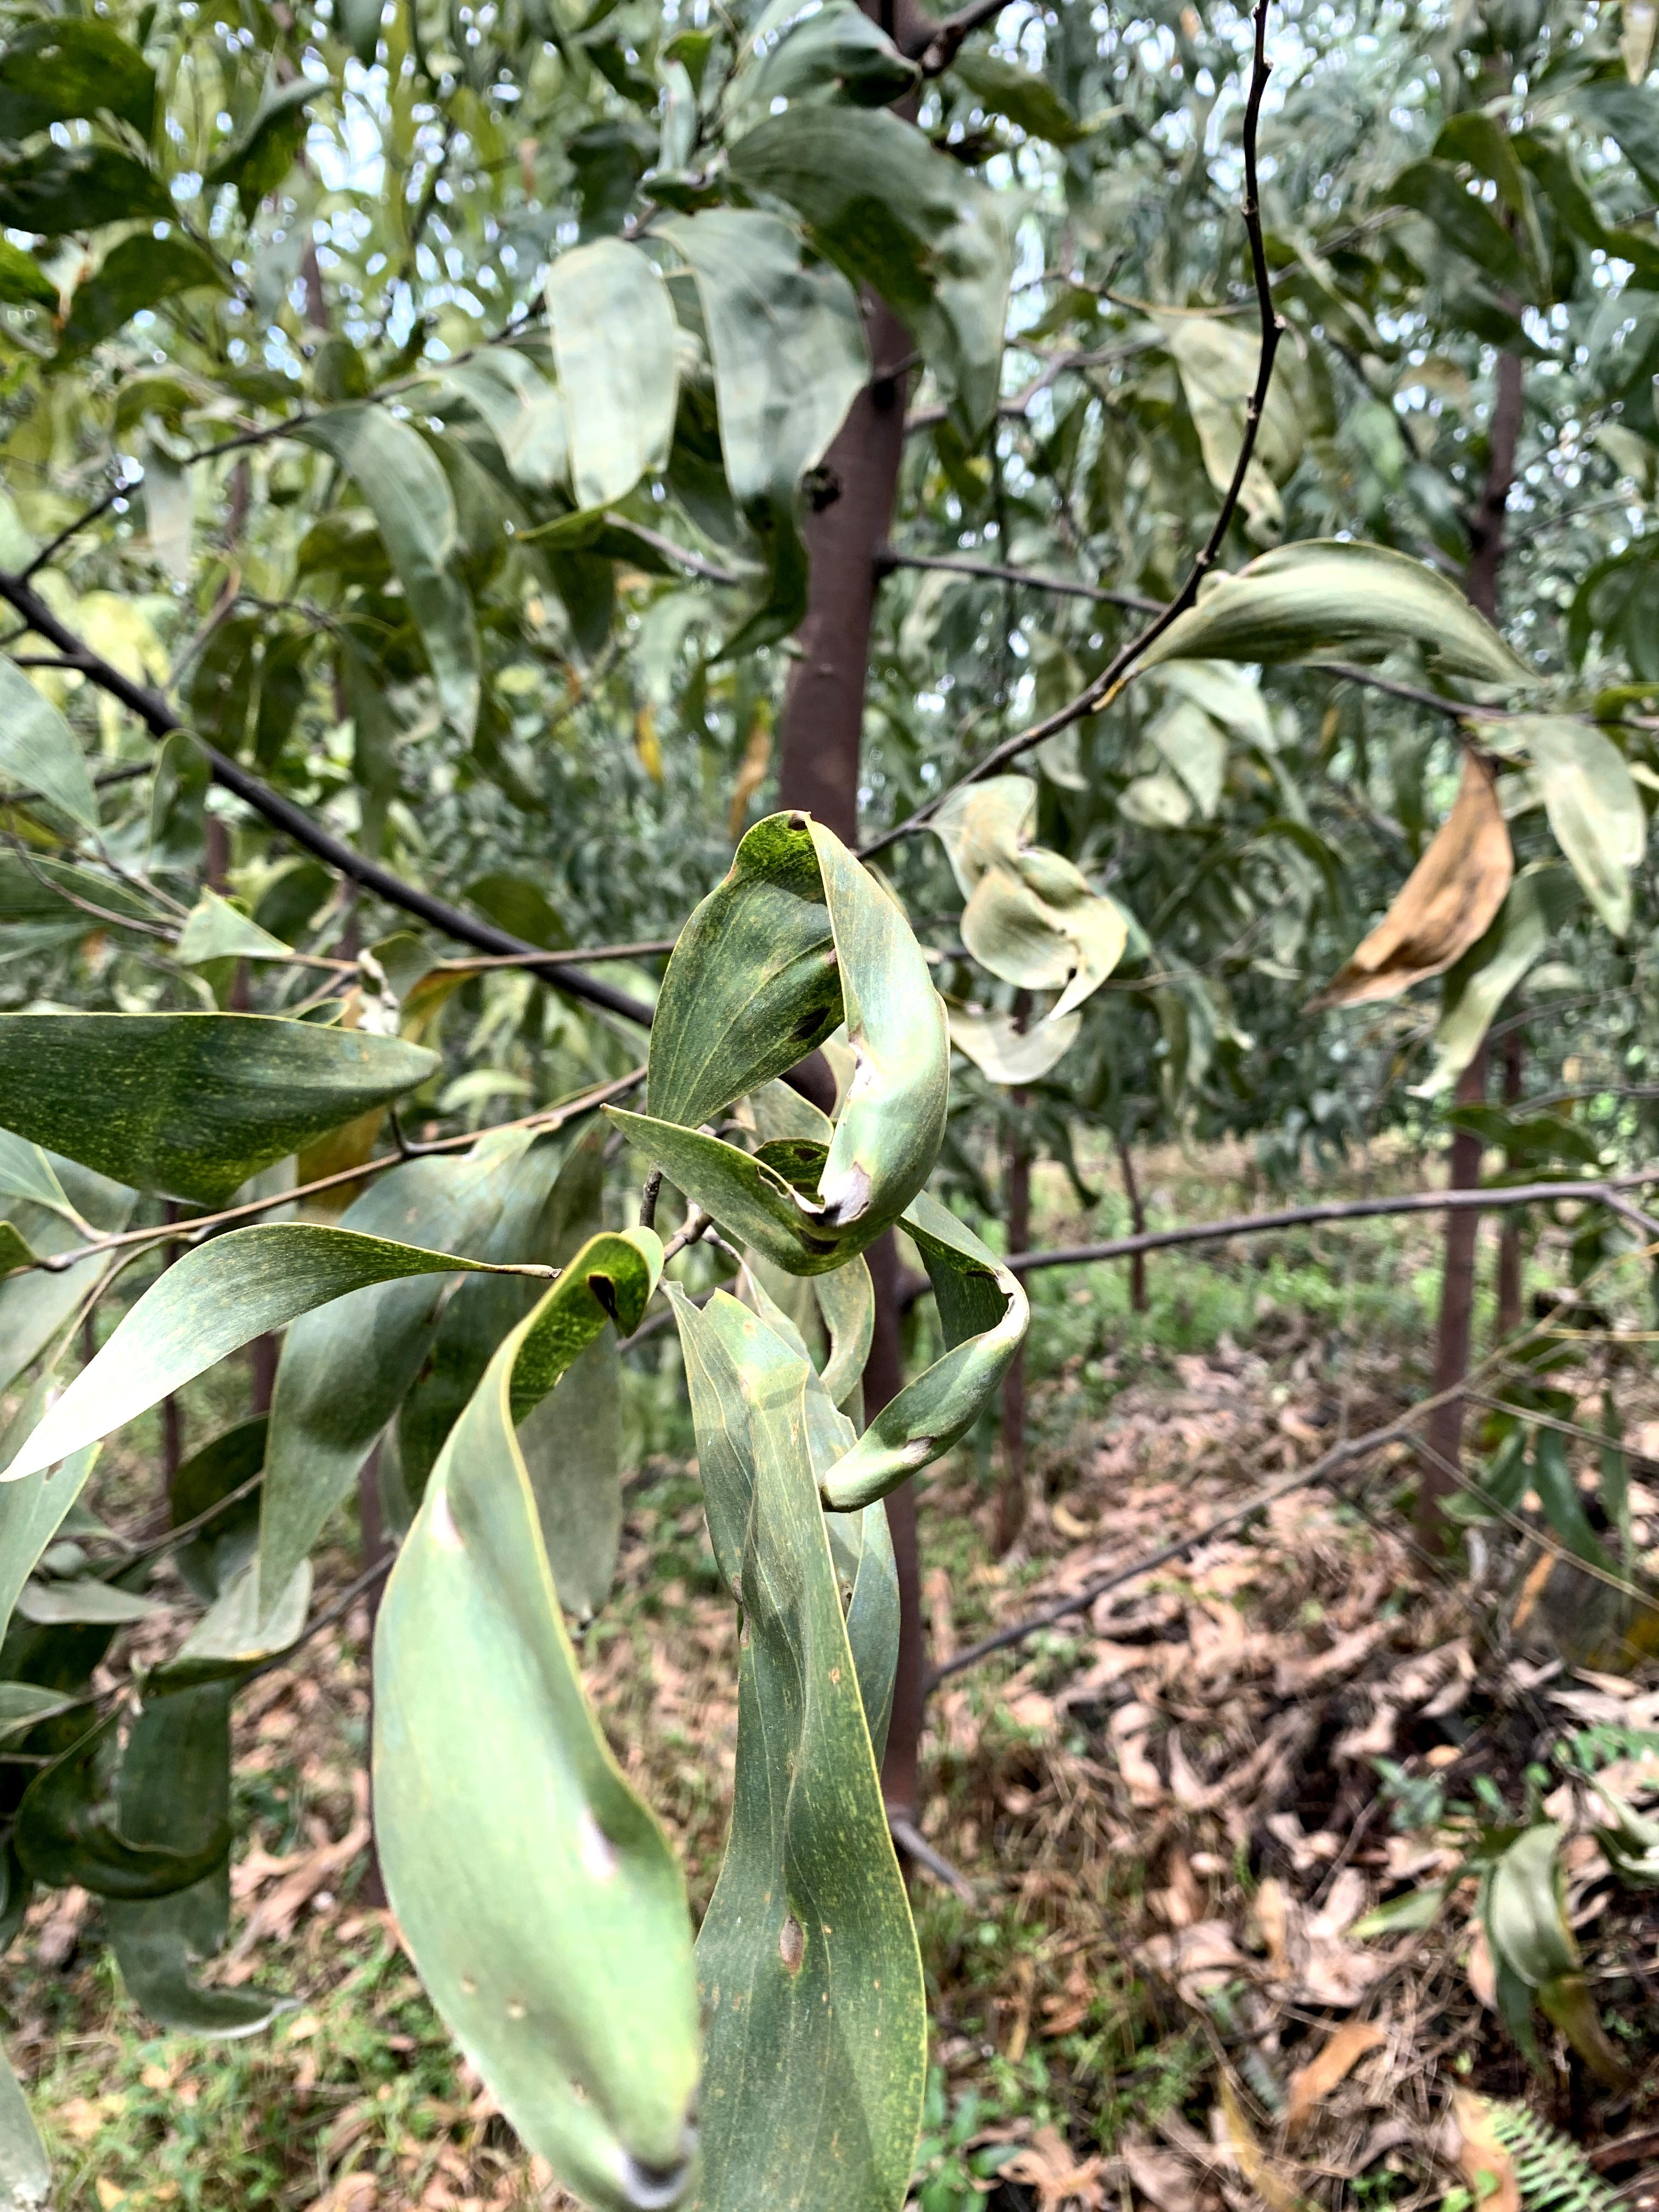Pasalora: (641, 1252, 936, 2212), (655, 812, 962, 1270), (826, 1211, 1011, 1521), (913, 777, 1133, 1019)
